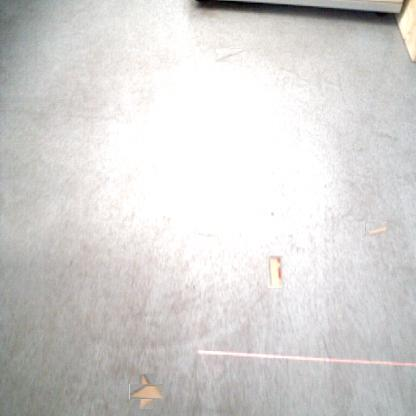dirty: (134, 379, 160, 404), (268, 255, 283, 288), (365, 222, 387, 236)
mark: (215, 48, 245, 62)
